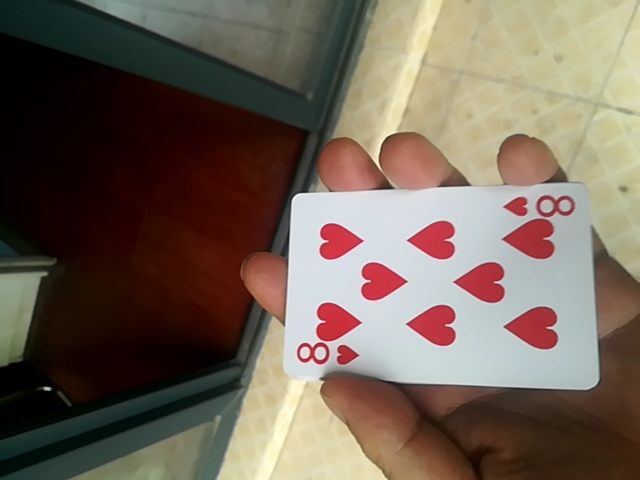hx 8: (284, 175, 602, 396)
